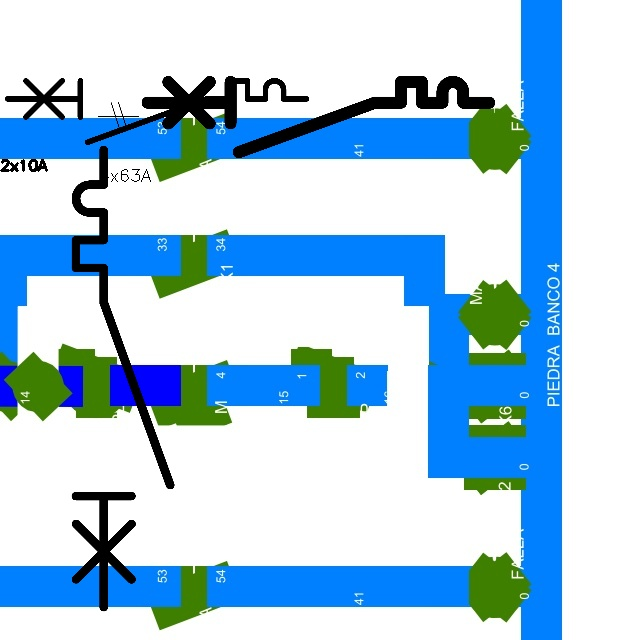interruptor_termomagnetico: (64, 138, 181, 619), (138, 73, 497, 161), (0, 73, 314, 150)
